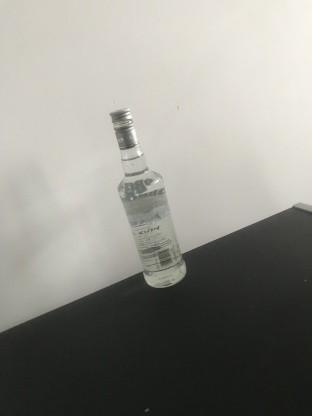nakretka: (108, 105, 139, 149)
